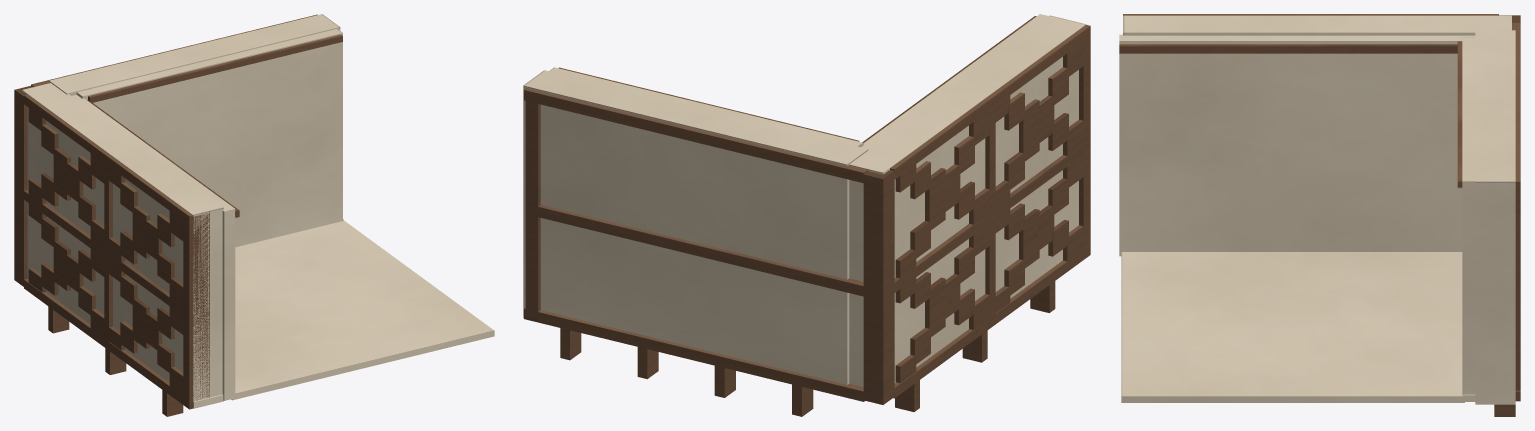
Rendered from med_corner_jetty.glb.
3 renders of one model, left to right at view 1: azimuth 30°, elevation 25°; view 2: azimuth 150°, elevation 25°; view 3: azimuth 270°, elevation 25°, orthographic. The views are drawn at different scales.
Visible parts, largest first — view 1: med_corner_jetty; view 2: med_corner_jetty; view 3: med_corner_jetty.
Boxes of the visible parts, <box> form: med_corner_jetty: <box>14,14,494,416</box>; med_corner_jetty: <box>523,14,1090,416</box>; med_corner_jetty: <box>1119,14,1520,416</box>.
Size of the model in its own units: 4.38 by 3.04 by 4.38.
Materials: 1 (1 with a texture image).
